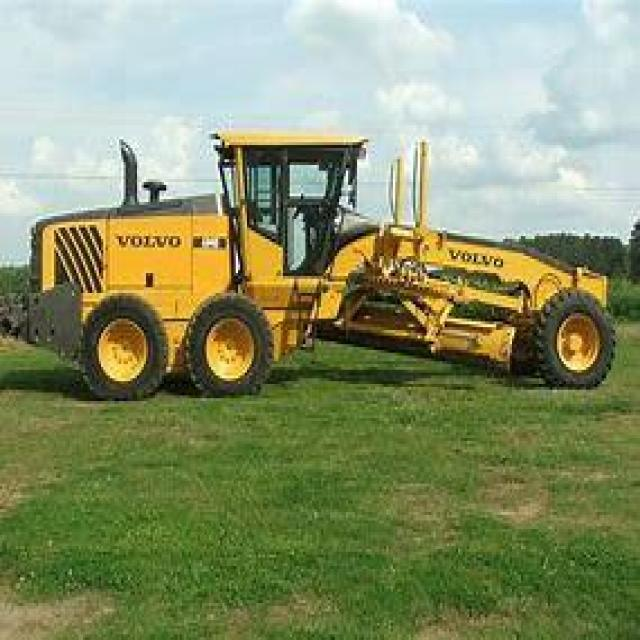Grader: (34, 120, 631, 401)
